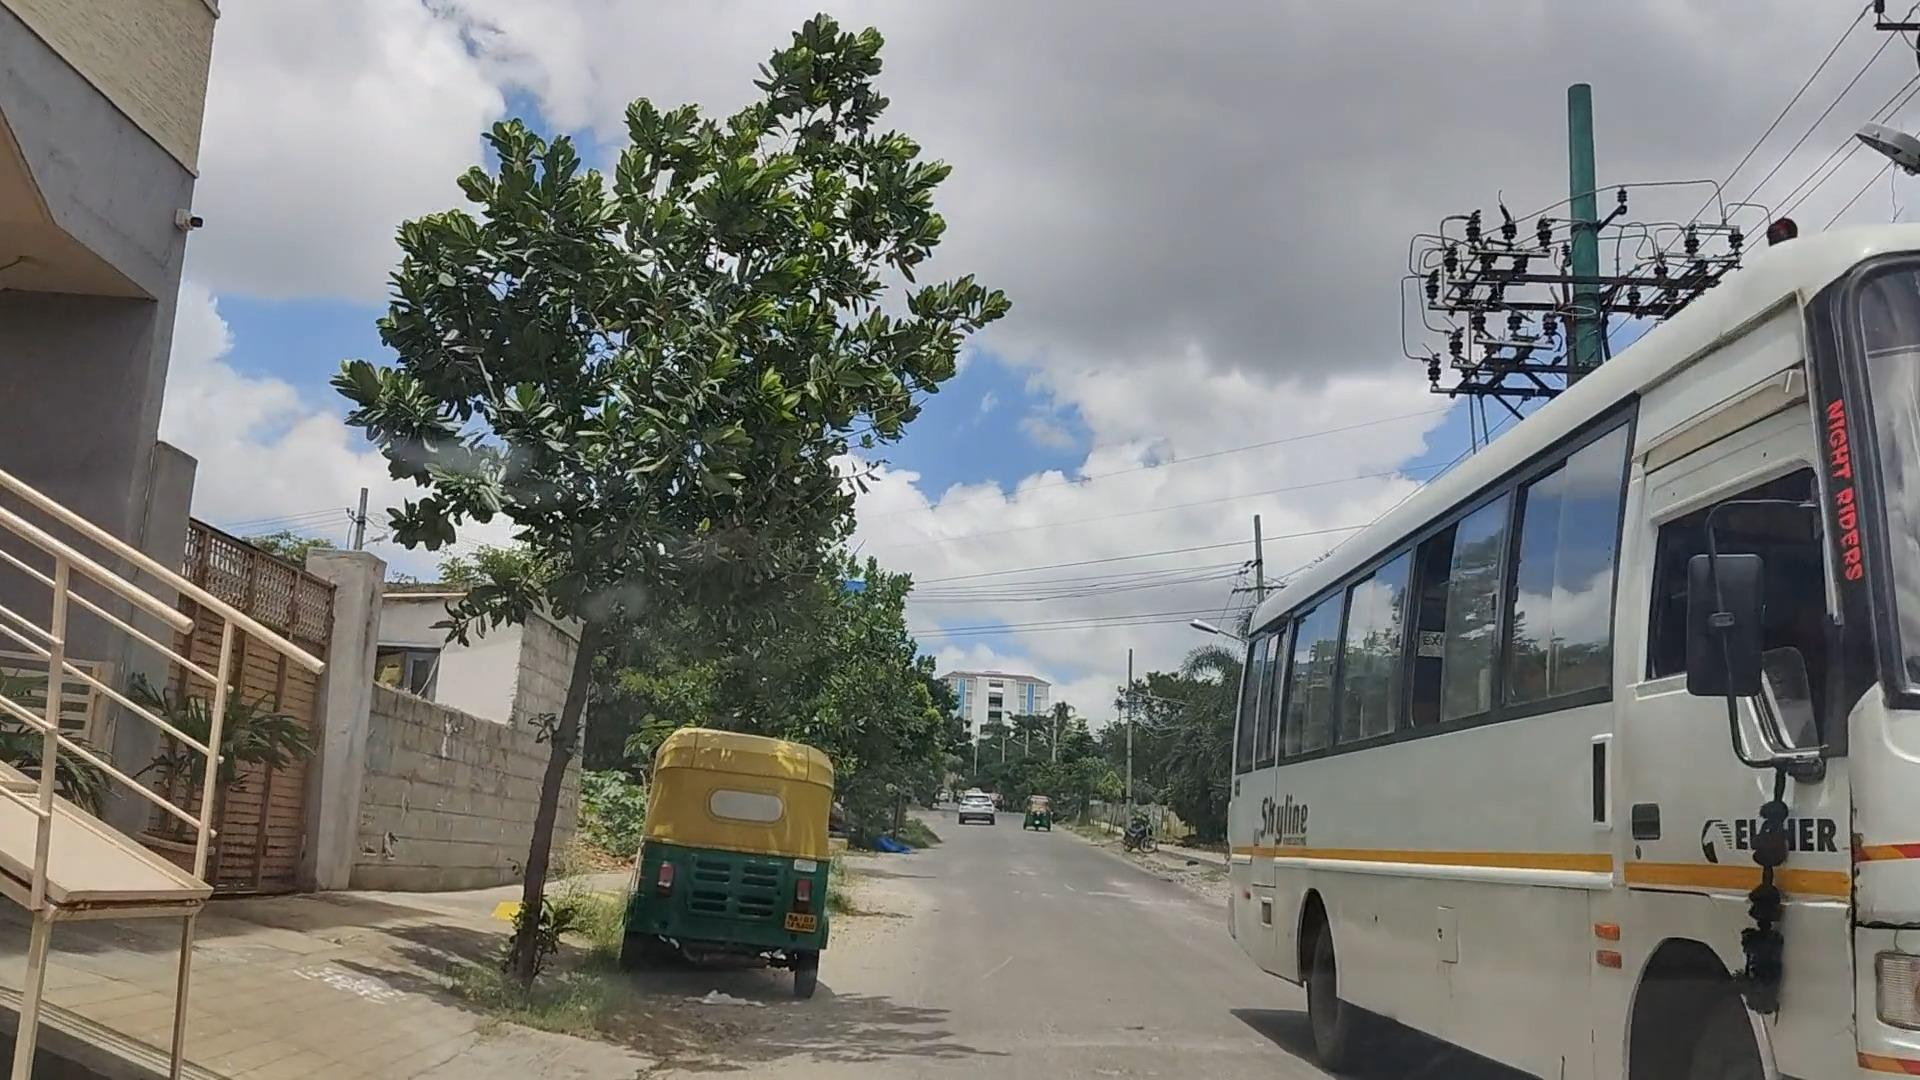HMV: (1187, 214, 1920, 1080)
